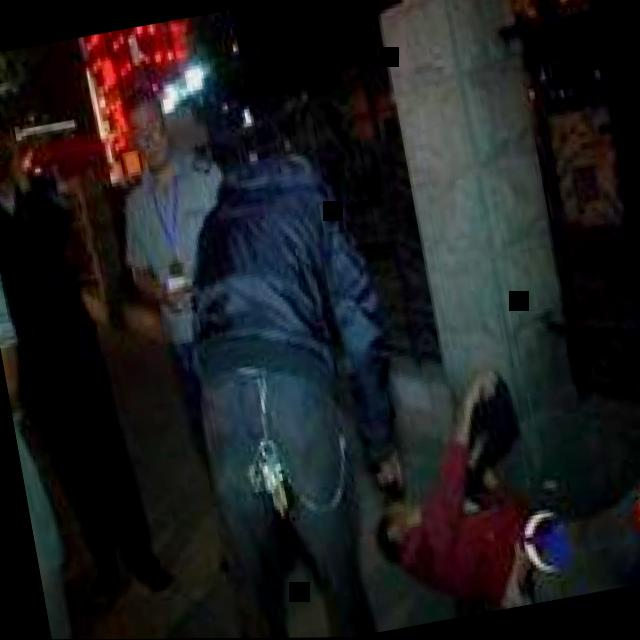Fall-Detected: (337, 311, 640, 631)
